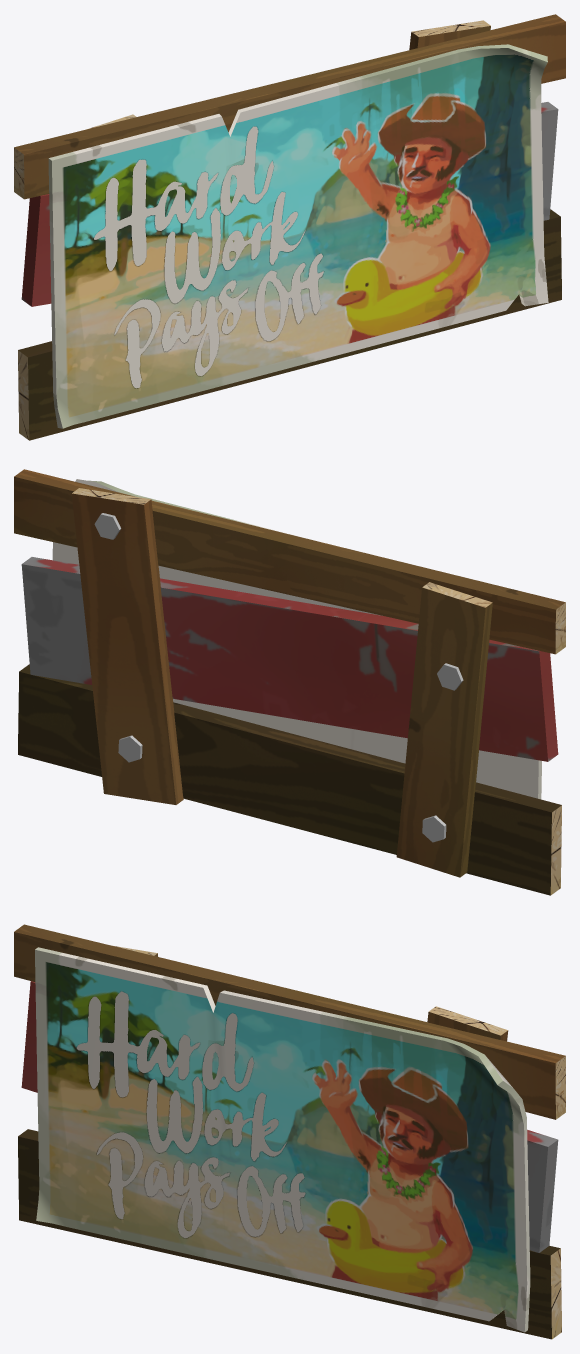
File: obj_manmade_holidayposter.fbx
3 views of the same model, one above another, from view 1: azimuth 30°, elevation 25°; view 2: azimuth 150°, elevation 25°; view 3: azimuth 330°, elevation 25° (orthographic).
Parts seen in each view (by area): view 1: obj_manmade_holidayposter_lod0; view 2: obj_manmade_holidayposter_lod0; view 3: obj_manmade_holidayposter_lod0.
Part boxes in pixels (x1=…): obj_manmade_holidayposter_lod0: x1=14, y1=14, x2=565, y2=440; obj_manmade_holidayposter_lod0: x1=14, y1=469, x2=565, y2=895; obj_manmade_holidayposter_lod0: x1=14, y1=924, x2=565, y2=1339.
Size of the model in its own units: 8 by 4.22 by 1.02.
